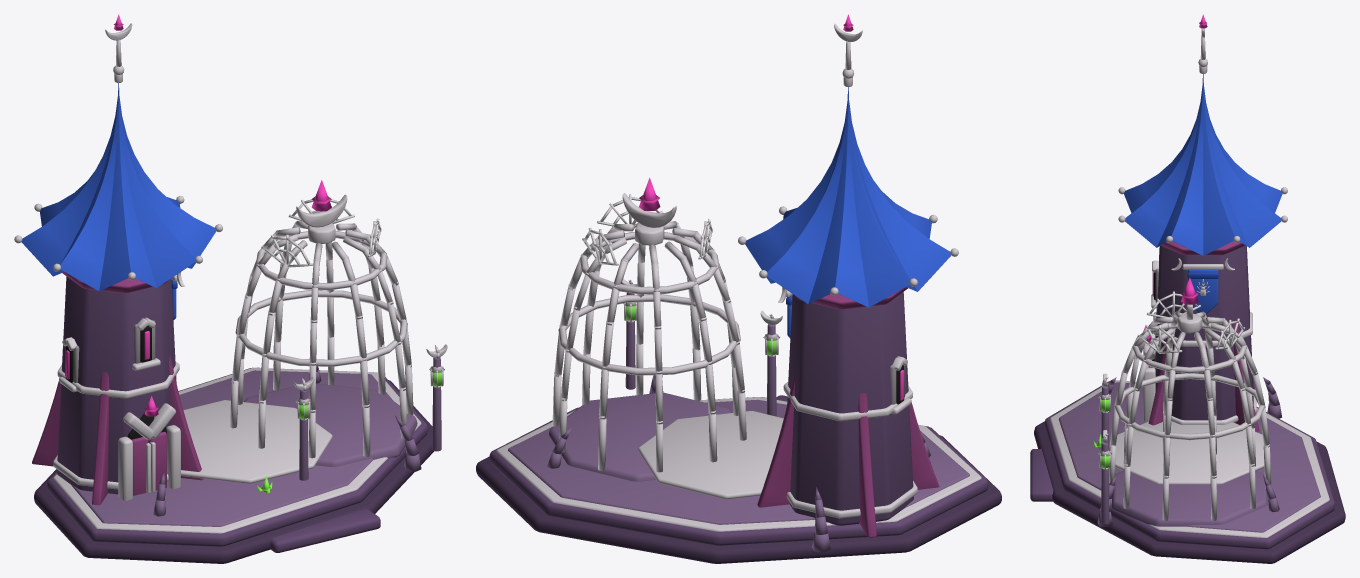
Rendered from Bestiary.glb.
3 renders of one model, left to right at view 1: azimuth 30°, elevation 25°; view 2: azimuth 150°, elevation 25°; view 3: azimuth 270°, elevation 25°, orthographic. The views are drawn at different scales.
Parts seen in each view (by area): view 1: Bestiary; view 2: Bestiary; view 3: Bestiary.
Boxes of the visible parts, x1,y1,x2,y2 form: Bestiary: (14,14,447,563); Bestiary: (476,14,1001,563); Bestiary: (1030,14,1345,563).
Size of the model in its own units: 4.52 by 5.19 by 3.54.
